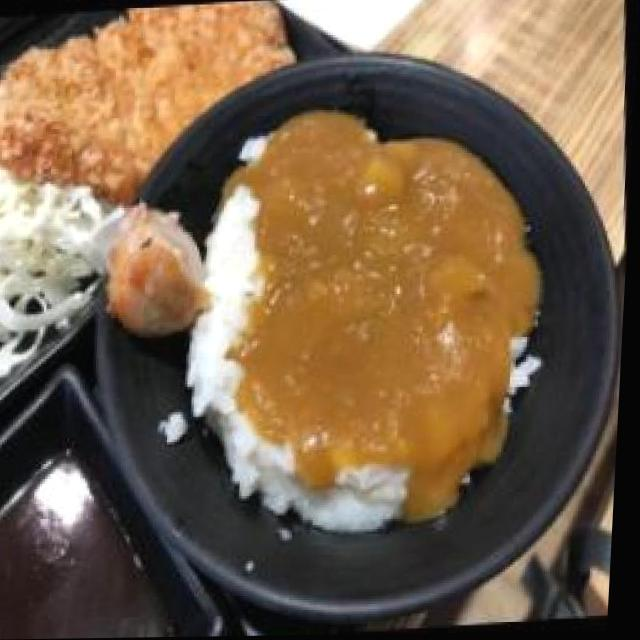curry: (207, 119, 540, 495)
